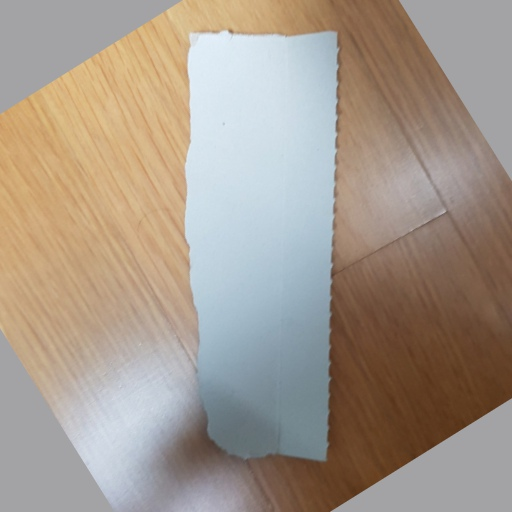Paper_2: (177, 24, 351, 469)
